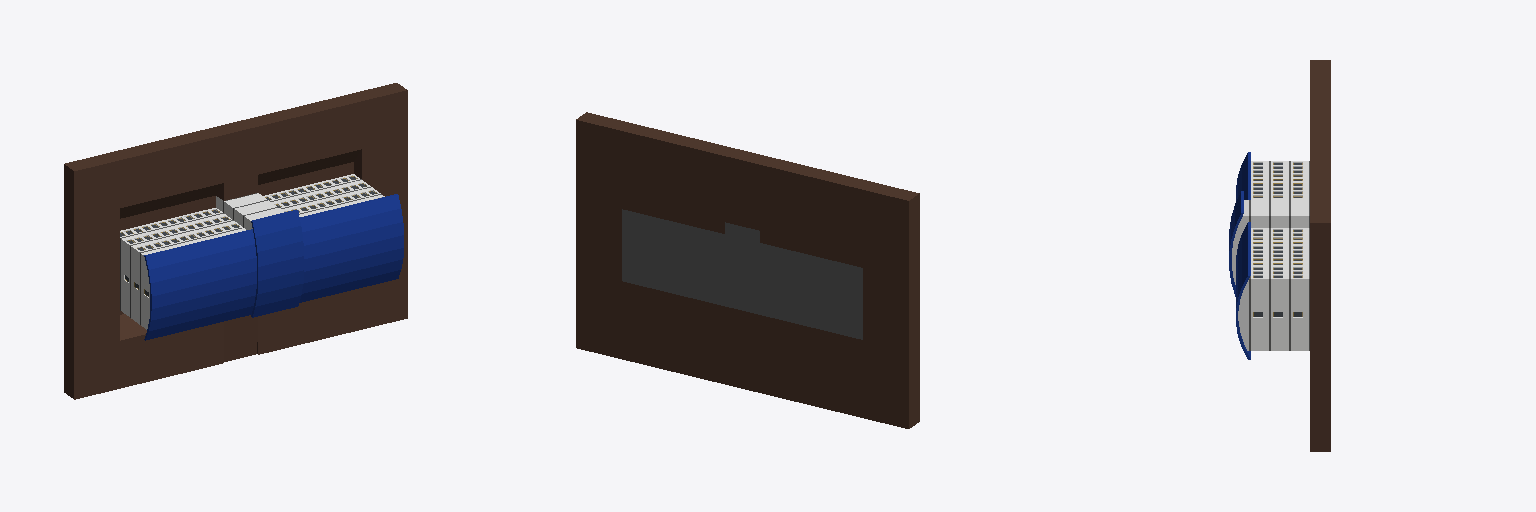
3 views of the same model, side by side, from view 1: azimuth 30°, elevation 25°; view 2: azimuth 150°, elevation 25°; view 3: azimuth 270°, elevation 25° (orthographic).
Visible parts, largest first — view 1: Gelaende_0815, Dach-001, Wand-002, Wand-006, Wand-001, Wand-004, Fenster-004, Fenster-005, Decke-001; view 2: Gelaende_0815, Decke-002; view 3: Gelaende_0815, Wand-007, Dach-001, Wand-006, Wand-002, Wand-004, Fenster-005, Decke-002, Fenster-004, Decke-001.
Part boxes in pixels (bbox=[...]): Gelaende_0815: bbox=[64, 83, 407, 399]; Dach-001: bbox=[144, 194, 403, 340]; Wand-002: bbox=[120, 208, 245, 254]; Wand-006: bbox=[263, 174, 384, 216]; Wand-001: bbox=[121, 239, 149, 329]; Wand-004: bbox=[224, 193, 283, 220]; Fenster-004: bbox=[120, 210, 238, 250]; Fenster-005: bbox=[265, 176, 376, 212]; Decke-001: bbox=[120, 179, 370, 317]; Gelaende_0815: bbox=[576, 112, 919, 428]; Decke-002: bbox=[622, 209, 862, 339]; Gelaende_0815: bbox=[1310, 60, 1330, 451]; Wand-007: bbox=[1238, 279, 1308, 350]; Dach-001: bbox=[1229, 152, 1250, 359]; Wand-006: bbox=[1237, 228, 1308, 278]; Wand-002: bbox=[1251, 161, 1308, 199]; Wand-004: bbox=[1243, 200, 1308, 215]; Fenster-005: bbox=[1253, 230, 1302, 277]; Decke-002: bbox=[1249, 161, 1270, 350]; Fenster-004: bbox=[1253, 163, 1302, 197]; Decke-001: bbox=[1289, 161, 1309, 350].
Bounding box in the file's own units: 58 × 38 × 15.35.